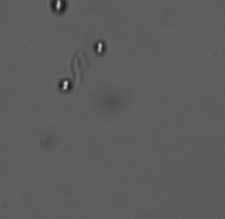Living Cell: (56, 78, 73, 93), (49, 1, 68, 14), (93, 40, 107, 56)
